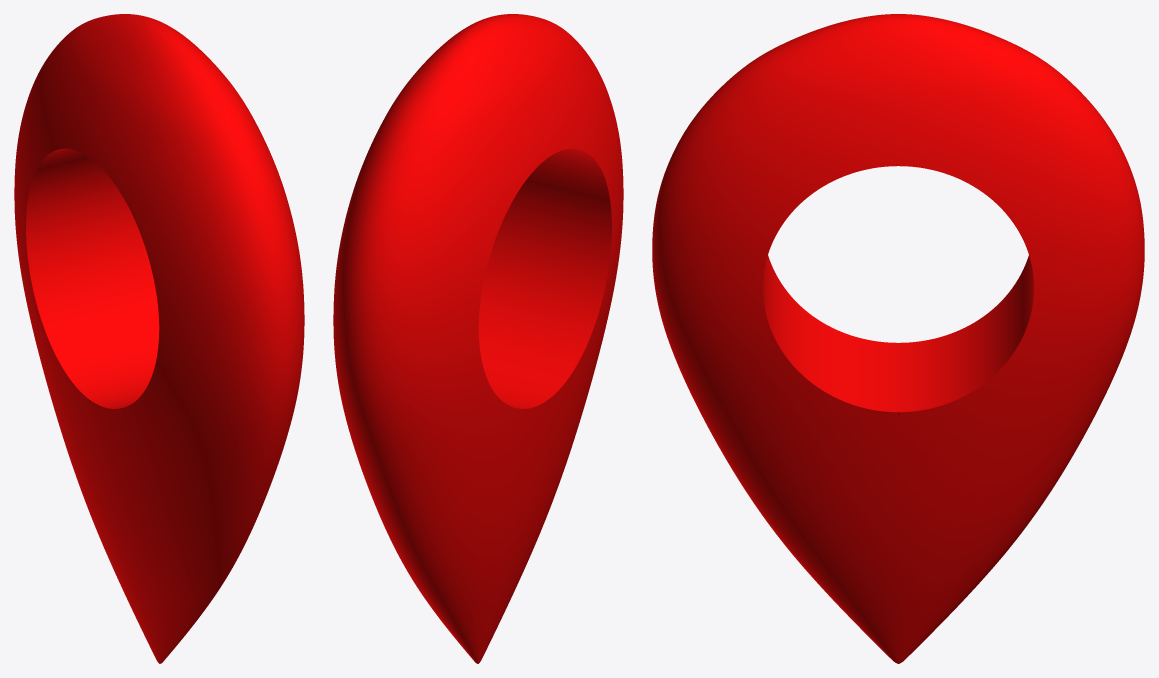
File: clocation.glb
The picture shows the model from 3 angles, left to right: view 1: azimuth 30°, elevation 25°; view 2: azimuth 150°, elevation 25°; view 3: azimuth 270°, elevation 25°; orthographic projection.
Parts seen in each view (by area): view 1: LOCATION; view 2: LOCATION; view 3: LOCATION.
Part boxes in pixels (x1,y1,x2,y2): LOCATION: (14, 14, 304, 663); LOCATION: (333, 14, 623, 663); LOCATION: (652, 14, 1144, 663).
Size of the model in its own units: 1.18 by 5.14 by 3.55.
